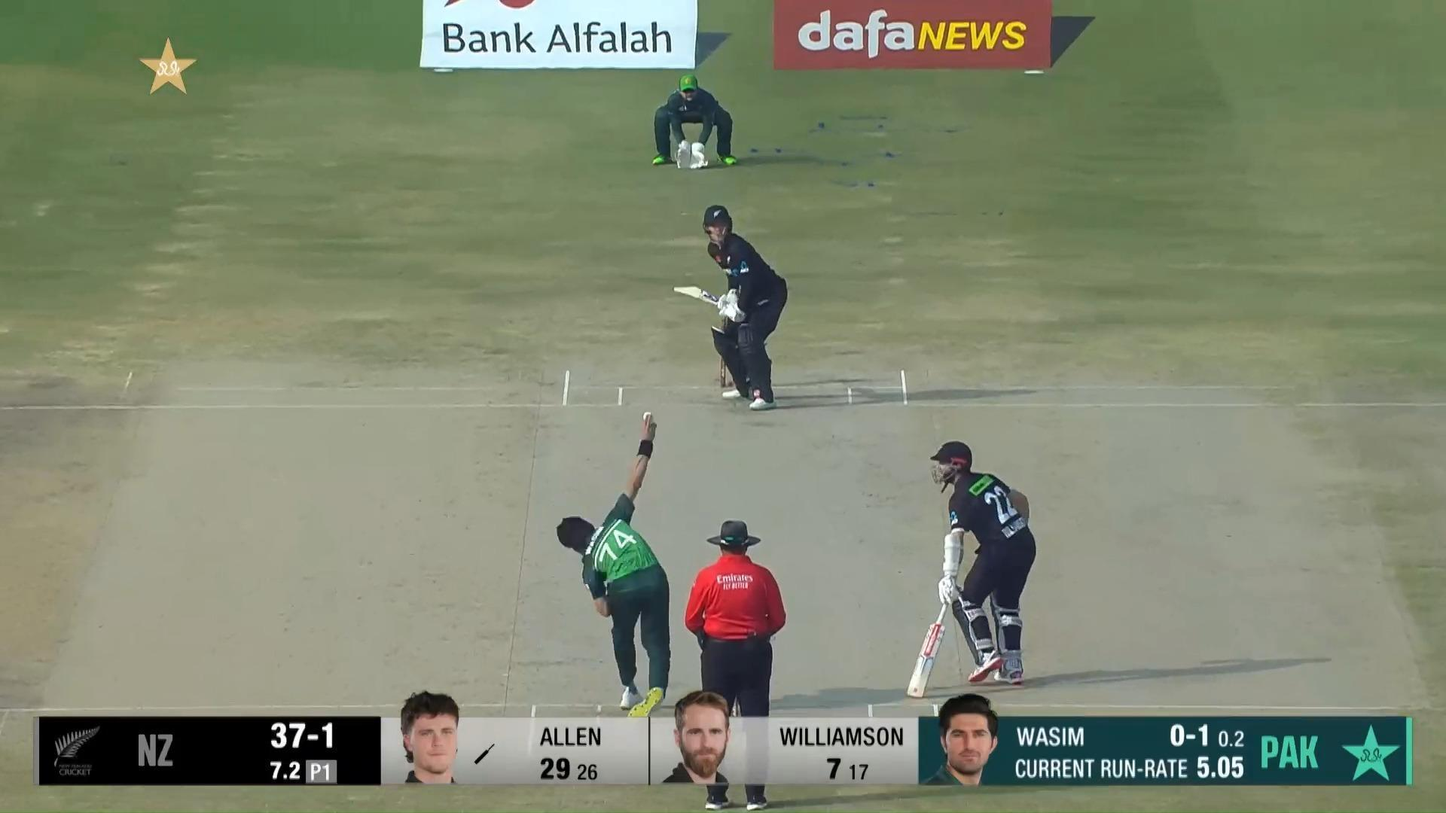BM 1: (670, 204, 789, 413)
BO: (555, 410, 674, 718)
